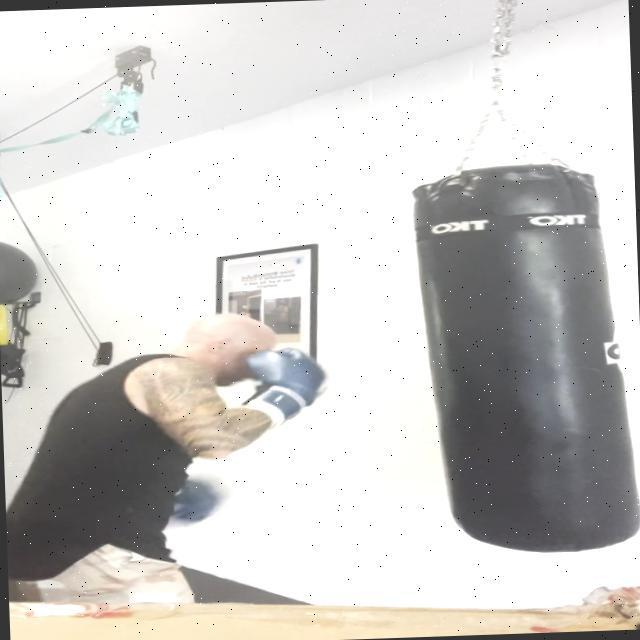bag: (412, 160, 630, 552)
